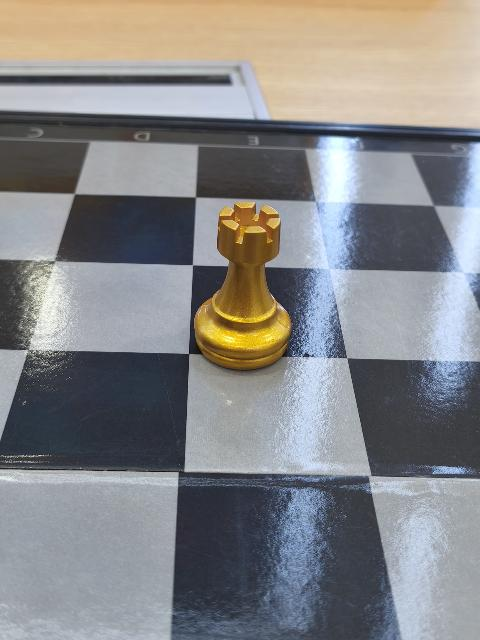black_rook: (190, 200, 296, 371)
